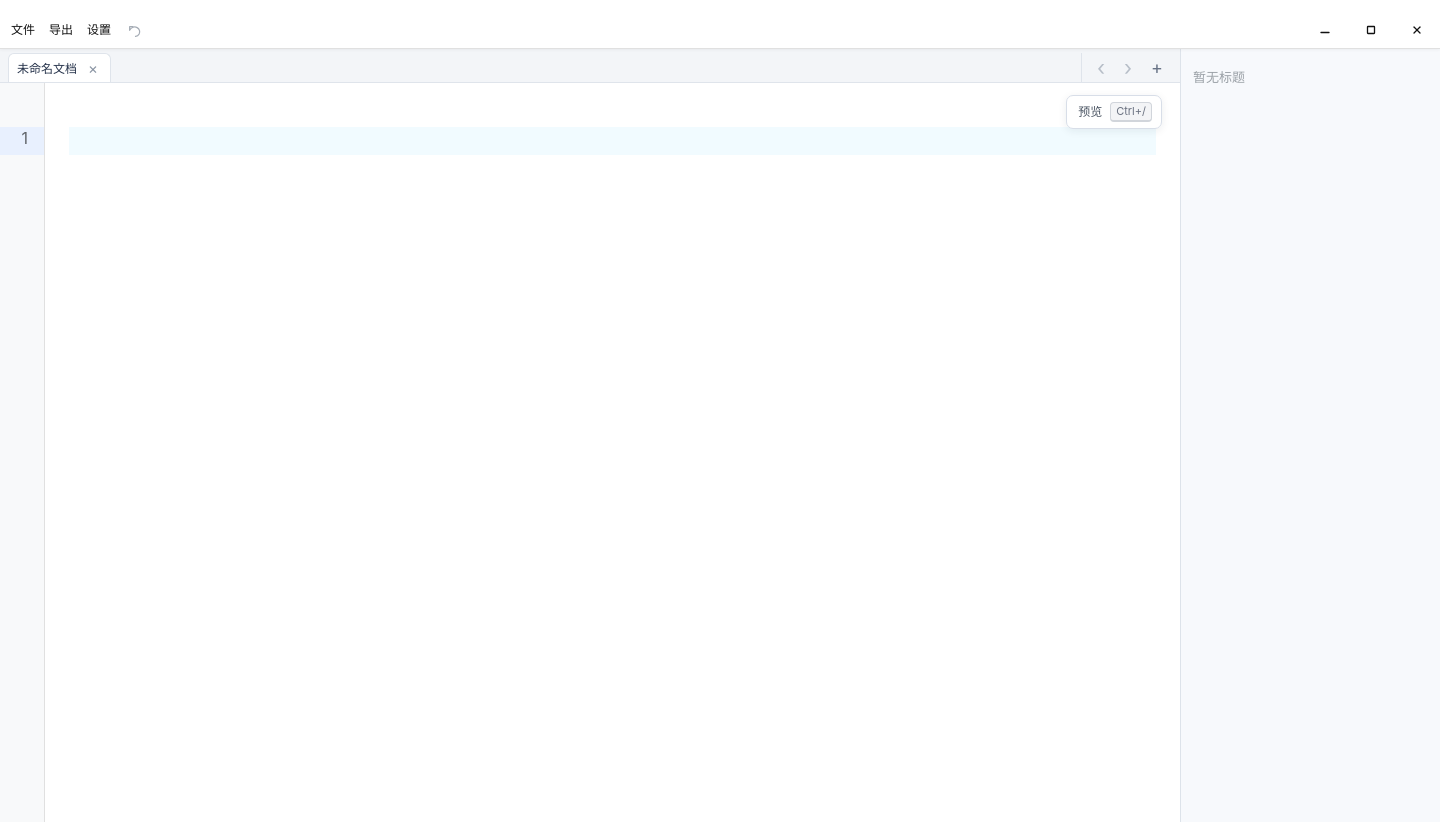
Test: App › 打开文件失败时应该显示错误提示
Click the button "文件" at (23, 30), box [4,12,42,48]
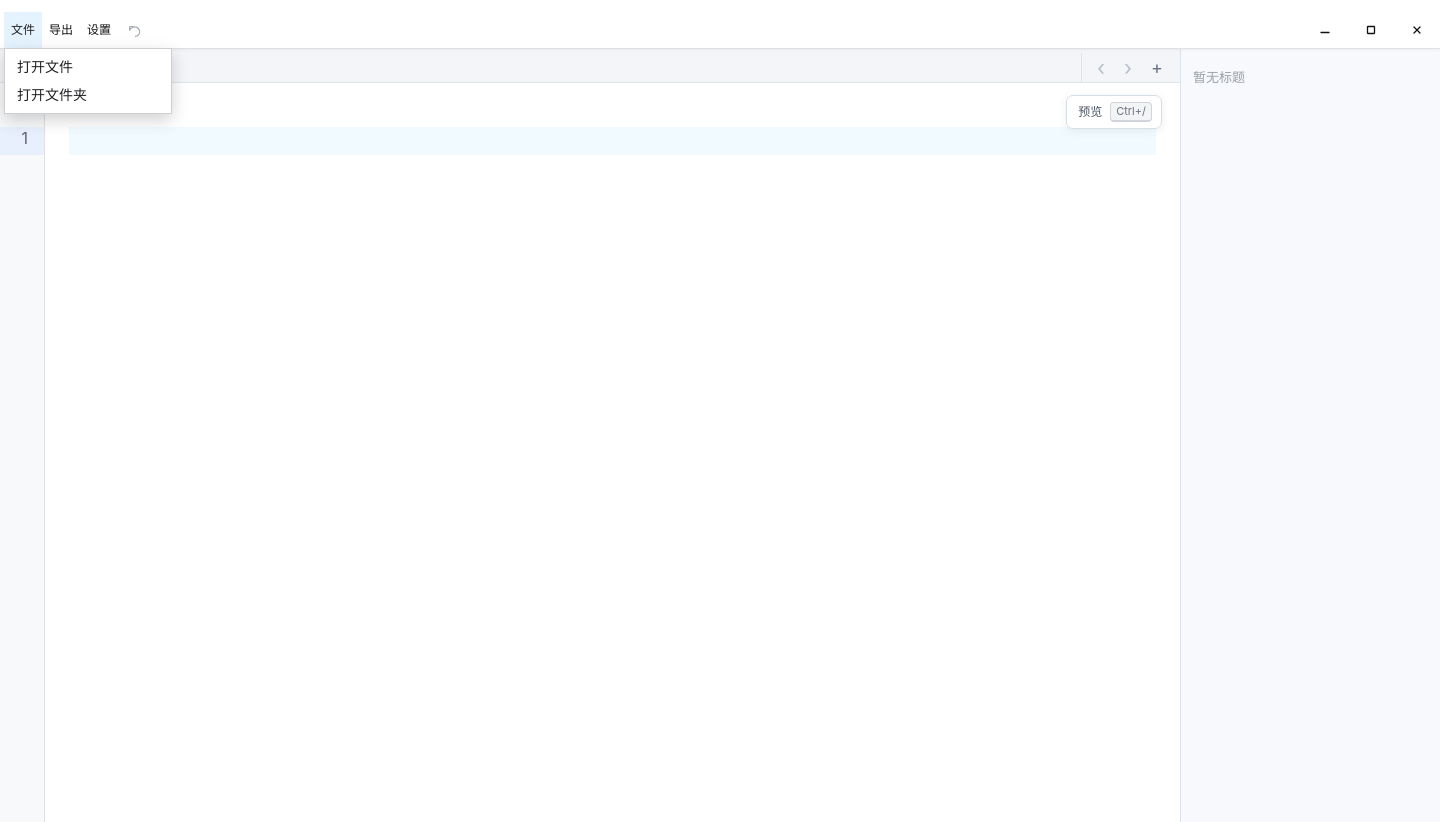
Click the menu item "打开文件" at (88, 67), box [5,53,171,81]
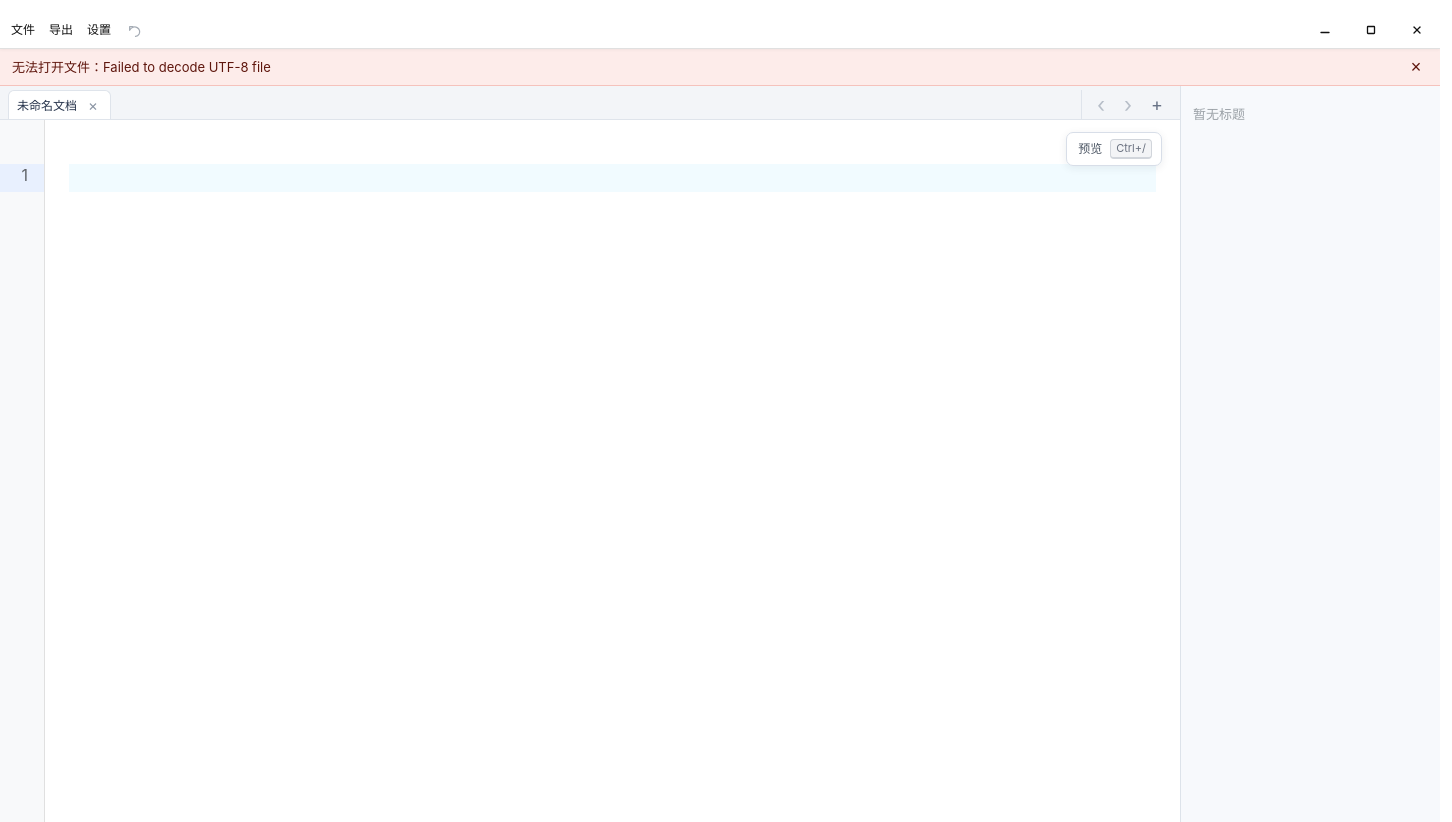
Now the message shows "无法打开文件", box [12,59,271,75]
Now the message shows "Failed to decode UTF-8 file", box [12,59,271,75]
